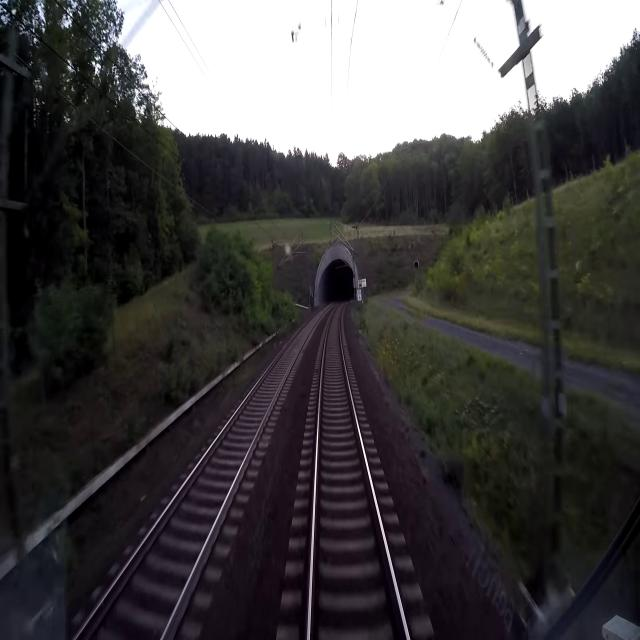rail-track: (78, 310, 322, 639), (312, 303, 406, 639)
